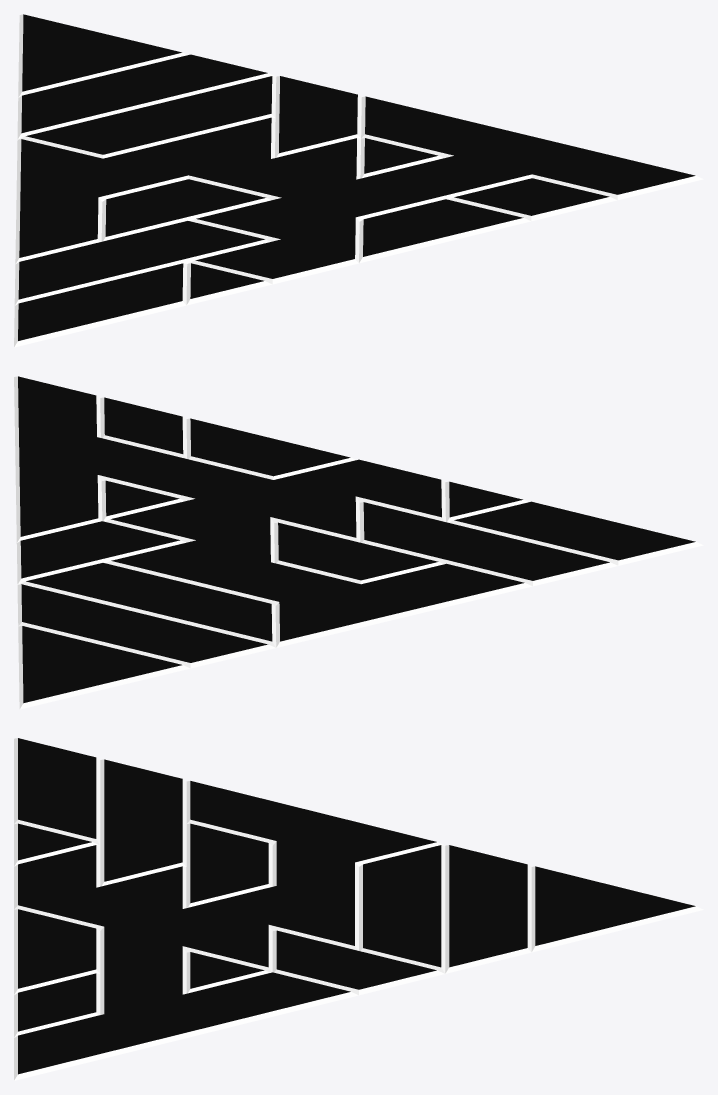
The model's file is 2fc470d9-57db-435f-bd6b-40cdec784a7d.glb.
3 renders of one model, top to bottom at view 1: azimuth 30°, elevation 25°; view 2: azimuth 150°, elevation 25°; view 3: azimuth 270°, elevation 25°, orthographic.
Visible parts, largest first — view 1: Cyberpunk Triangle Tile.003; view 2: Cyberpunk Triangle Tile.003; view 3: Cyberpunk Triangle Tile.003.
Boxes of the visible parts, x1,y1,x2,y2 form: Cyberpunk Triangle Tile.003: (14,14,703,347); Cyberpunk Triangle Tile.003: (14,376,703,709); Cyberpunk Triangle Tile.003: (14,738,703,1080).
Size of the model in its own units: 1.02 by 0.005 by 0.8664.
1 material, 1 textured.
